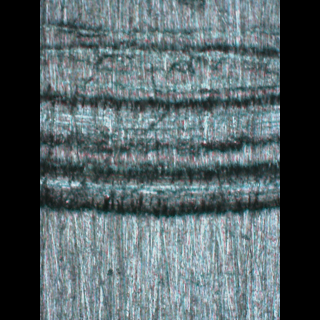d: (39, 17, 278, 230)
